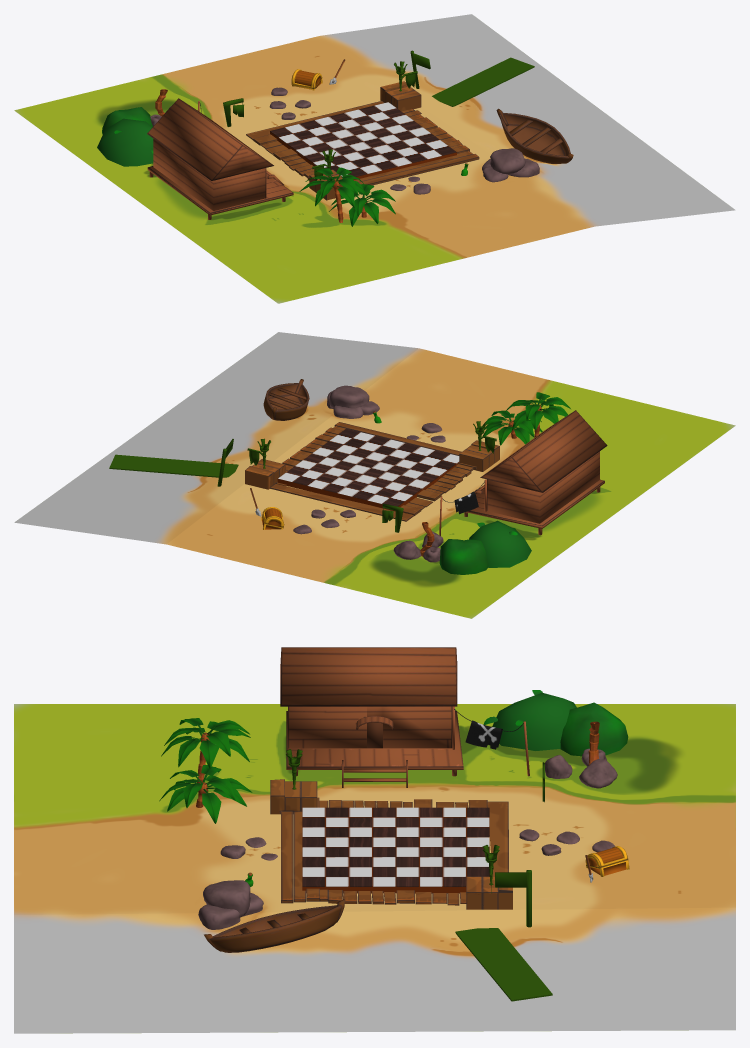
The model's file is PIRATE THEME.fbx.
3 views of the same model, one above another, from view 1: azimuth 30°, elevation 25°; view 2: azimuth 150°, elevation 25°; view 3: azimuth 270°, elevation 25° (orthographic). The views are drawn at different scales.
Parts seen in each view (by area): view 1: Plane, Props A_LowPoly, Board_LP, PLATFORM_LowPoly, ROCKS.002, Bush_LowPoly.001, Dock_LowPoly, PalmTree.002, Props B_LowPoly, PalmTree, Bush_LowPoly; view 2: Plane, Props A_LowPoly, Board_LP, PLATFORM_LowPoly, ROCKS.002, Bush_LowPoly.001, Dock_LowPoly, Bush_LowPoly, Props B_LowPoly, PalmTree.002, PalmTree; view 3: Plane, Props A_LowPoly, Board_LP, PLATFORM_LowPoly, ROCKS.002, Bush_LowPoly.001, Dock_LowPoly, Bush_LowPoly, PalmTree.002, PalmTree, Props B_LowPoly.
Boxes of the visible parts, box(x1,y1,x2,y2) form: Plane: box(14, 14, 735, 303); Props A_LowPoly: box(147, 59, 573, 219); Board_LP: box(270, 102, 456, 179); PLATFORM_LowPoly: box(246, 81, 479, 200); ROCKS.002: box(150, 87, 539, 194); Bush_LowPoly.001: box(97, 118, 153, 166); Dock_LowPoly: box(432, 57, 534, 106); PalmTree.002: box(299, 167, 367, 222); Props B_LowPoly: box(223, 50, 430, 180); PalmTree: box(329, 184, 395, 226); Bush_LowPoly: box(102, 107, 152, 134); Plane: box(14, 332, 735, 618); Props A_LowPoly: box(250, 379, 607, 535); Board_LP: box(277, 428, 459, 511); PLATFORM_LowPoly: box(245, 422, 499, 521); ROCKS.002: box(293, 385, 445, 562); Bush_LowPoly.001: box(469, 520, 531, 567); Dock_LowPoly: box(109, 454, 238, 477); Bush_LowPoly: box(439, 539, 488, 574); Props B_LowPoly: box(217, 421, 496, 532); PalmTree.002: box(505, 392, 570, 437); PalmTree: box(482, 410, 542, 445); Plane: box(14, 704, 735, 1033); Props A_LowPoly: box(204, 647, 629, 952); Board_LP: box(302, 807, 489, 893); PLATFORM_LowPoly: box(270, 779, 512, 909); ROCKS.002: box(198, 748, 617, 929); Bush_LowPoly.001: box(483, 690, 576, 750); Dock_LowPoly: box(455, 928, 552, 1001); Bush_LowPoly: box(560, 702, 628, 756); PalmTree.002: box(161, 718, 250, 783); PalmTree: box(159, 765, 252, 823); Props B_LowPoly: box(286, 749, 544, 927).
Bounding box in the file's own units: 7424 × 1702 × 7420.
